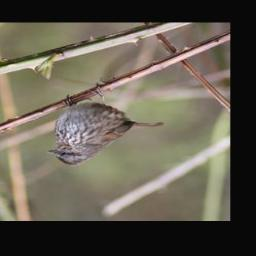Sparrow: (44, 82, 168, 168)
